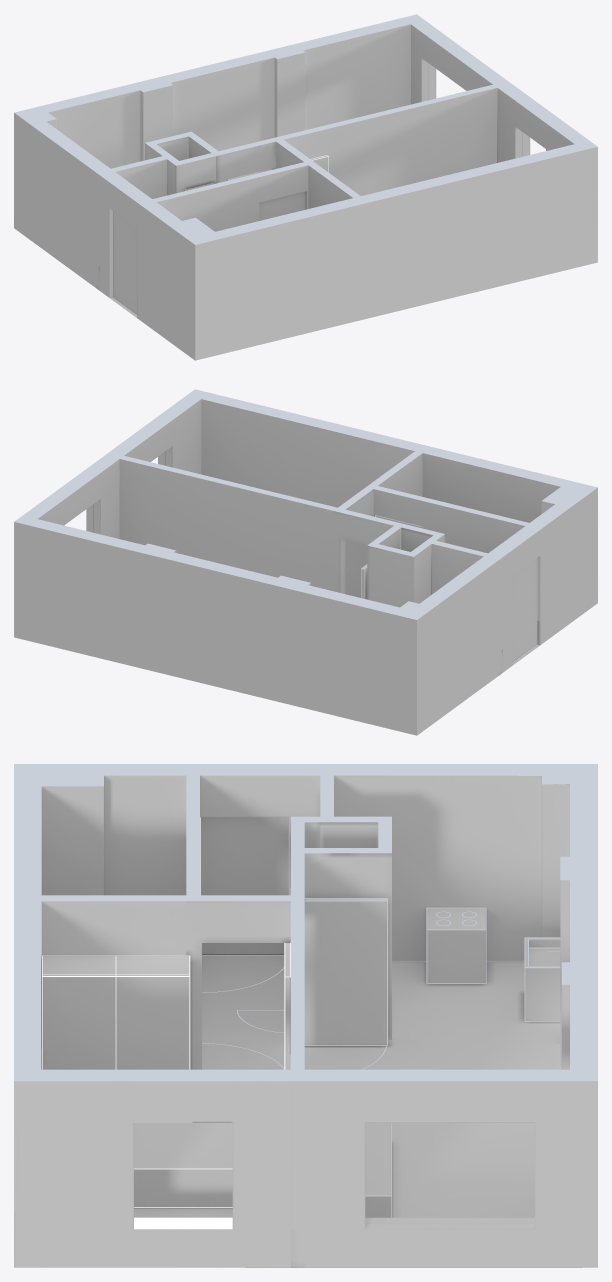
Rendered from Structured_Model.glb.
3 renders of one model, top to bottom at view 1: azimuth 30°, elevation 25°; view 2: azimuth 150°, elevation 25°; view 3: azimuth 270°, elevation 25°, orthographic. The views are drawn at different scales.
Visible parts, largest first — view 1: TopWall_LivingRoom_2, TopWall_Bedroom_1, TopWall_Bedroom_LivingRoom_1, TopWall_Bathroom_2, TopWall_LivingRoom_3, TopWall_Bathroom_1, Bathroom_Ground, TopWall_Bathroom_Hallway_2, Bedroom_Ground, TopWall_LivingRoom_1, TopWall_Bedroom_2, Hallway_Gound (+10 smaller); view 2: TopWall_LivingRoom_2, TopWall_Bedroom_LivingRoom_1, TopWall_Bedroom_1, LivingRoom_Ground, TopWall_LivingRoom_3, TopWall_Bathroom_2, TopWall_Bathroom_1, TopWall_Bathroom_Hallway_2, TopWall_LivingRoom_1, TopWall_Bedroom_2, Hallway_Gound, TopWall_BoilerRoom_LivingRoom_1 (+11 smaller); view 3: LivingRoom_Ground, Bedroom_Ground, TopWall_LivingRoom_3, LivingRoom_Floor, TopWall_Bedroom_2, TopWall_LivingRoom_1, TopWall_Bathroom_1, Hallway_Gound, TopWall_LivingRoom_2, TopWall_Bedroom_1, TopWall_Bedroom_Bathroom_1, TopWall_Hallway_1 (+8 smaller).
Boxes of the visible parts, <box> form: TopWall_LivingRoom_2: <box>40,14,425,168</box>; TopWall_Bedroom_1: <box>361,140,597,293</box>; TopWall_Bedroom_LivingRoom_1: <box>279,81,511,195</box>; TopWall_Bathroom_2: <box>215,198,361,329</box>; TopWall_LivingRoom_3: <box>14,106,110,263</box>; TopWall_Bathroom_1: <box>141,202,223,336</box>; Bathroom_Ground: <box>141,192,361,360</box>; TopWall_Bathroom_Hallway_2: <box>137,162,308,297</box>; Bedroom_Ground: <box>310,155,597,317</box>; TopWall_LivingRoom_1: <box>411,21,507,104</box>; TopWall_Bedroom_2: <box>497,84,588,162</box>; Hallway_Gound: <box>100,211,137,317</box>; TopWall_LivingRoom_2: <box>14,515,399,705</box>; TopWall_Bedroom_LivingRoom_1: <box>105,452,337,591</box>; TopWall_Bedroom_1: <box>187,389,422,507</box>; LivingRoom_Ground: <box>14,564,498,735</box>; TopWall_LivingRoom_3: <box>391,556,498,711</box>; TopWall_Bathroom_2: <box>422,447,568,522</box>; TopWall_Bathroom_1: <box>530,480,597,617</box>; TopWall_Bathroom_Hallway_2: <box>373,486,544,621</box>; TopWall_LivingRoom_1: <box>23,455,119,538</box>; TopWall_Bedroom_2: <box>110,395,201,474</box>; Hallway_Gound: <box>503,558,539,672</box>; TopWall_BoilerRoom_LivingRoom_1: <box>374,544,417,607</box>; LivingRoom_Ground: <box>304,898,597,1267</box>; Bedroom_Ground: <box>14,943,290,1267</box>; TopWall_LivingRoom_3: <box>334,764,597,931</box>; LivingRoom_Floor: <box>304,962,561,1217</box>; TopWall_Bedroom_2: <box>41,1069,290,1229</box>; TopWall_LivingRoom_1: <box>304,1069,569,1229</box>; TopWall_Bathroom_1: <box>14,764,186,895</box>; Hallway_Gound: <box>200,817,289,1069</box>; TopWall_LivingRoom_2: <box>560,784,597,1229</box>; TopWall_Bedroom_1: <box>14,901,41,1229</box>; TopWall_Bedroom_Bathroom_1: <box>14,895,186,1048</box>; TopWall_Hallway_1: <box>200,764,320,895</box>.
Bounding box in the file's own units: 5.14 × 1.41 × 4.
Materials: 87 (44 with a texture image).
